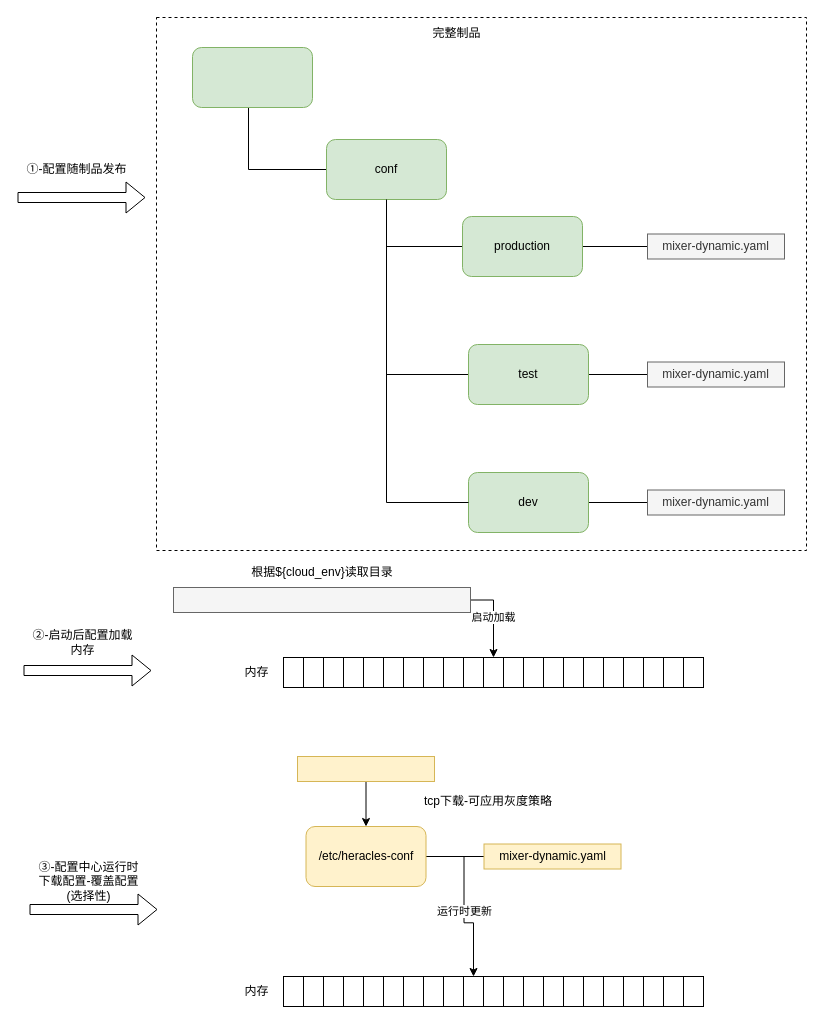
The diagram is 824 pixels wide and 1024 high, and some of its shapes have lost their labels. Here are the shapes that lost their labels. From the top down, the box of each, then its label:
(192, 46, 312, 108): project-dir
(172, 586, 470, 612): ${project-dir}/conf/${cloud_env}/mixer-dynamic.yaml
(296, 756, 434, 782): heracles-sdk
